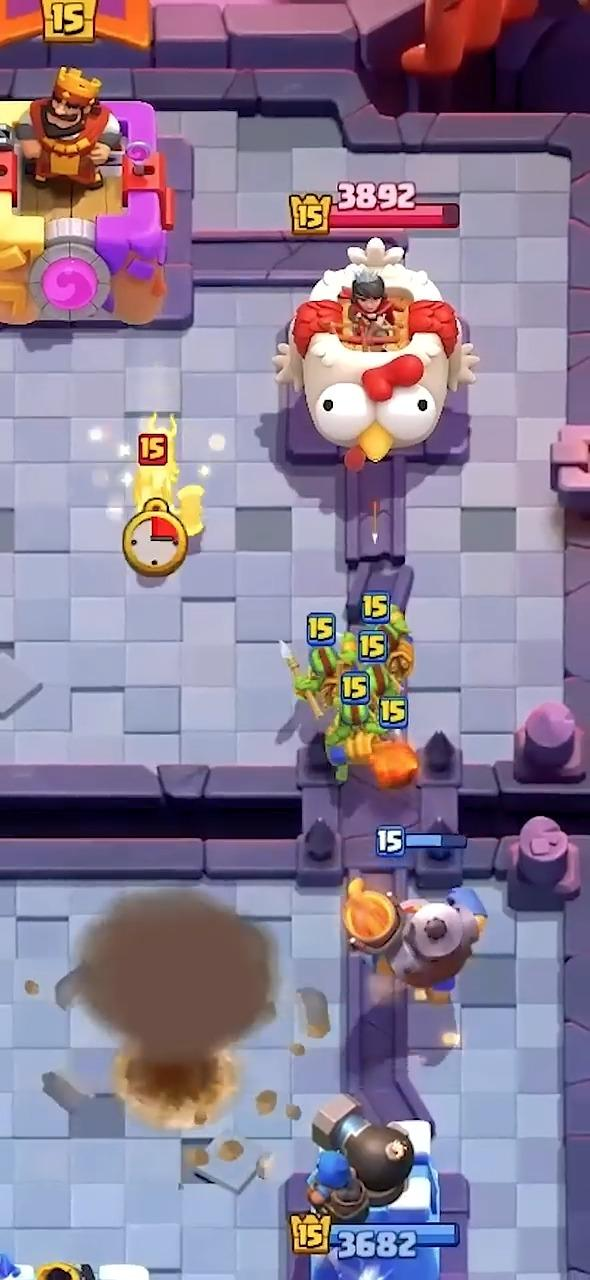fire spirit: (369, 739, 417, 788)
furnace: (342, 876, 482, 1002)
spear goblin: (325, 704, 386, 780), (289, 641, 343, 714), (377, 604, 413, 692), (367, 664, 392, 697), (344, 633, 354, 667)
valkyrie: (133, 415, 203, 537)
